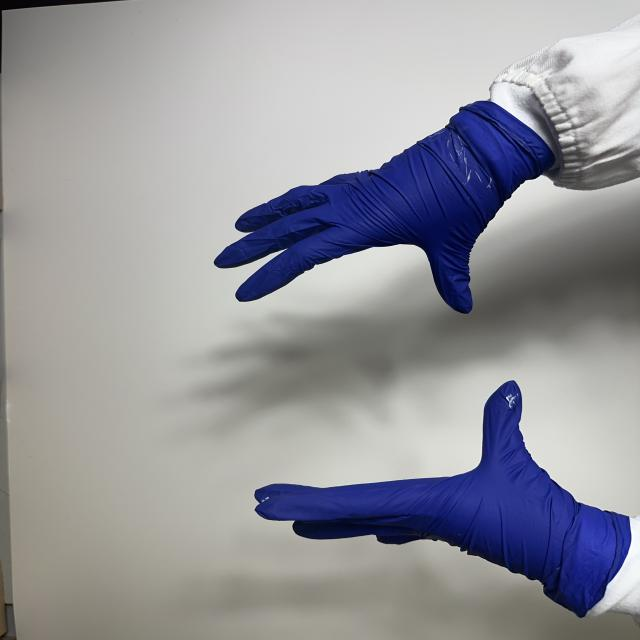gloves_contaminated: (255, 381, 631, 617), (215, 101, 553, 313)
